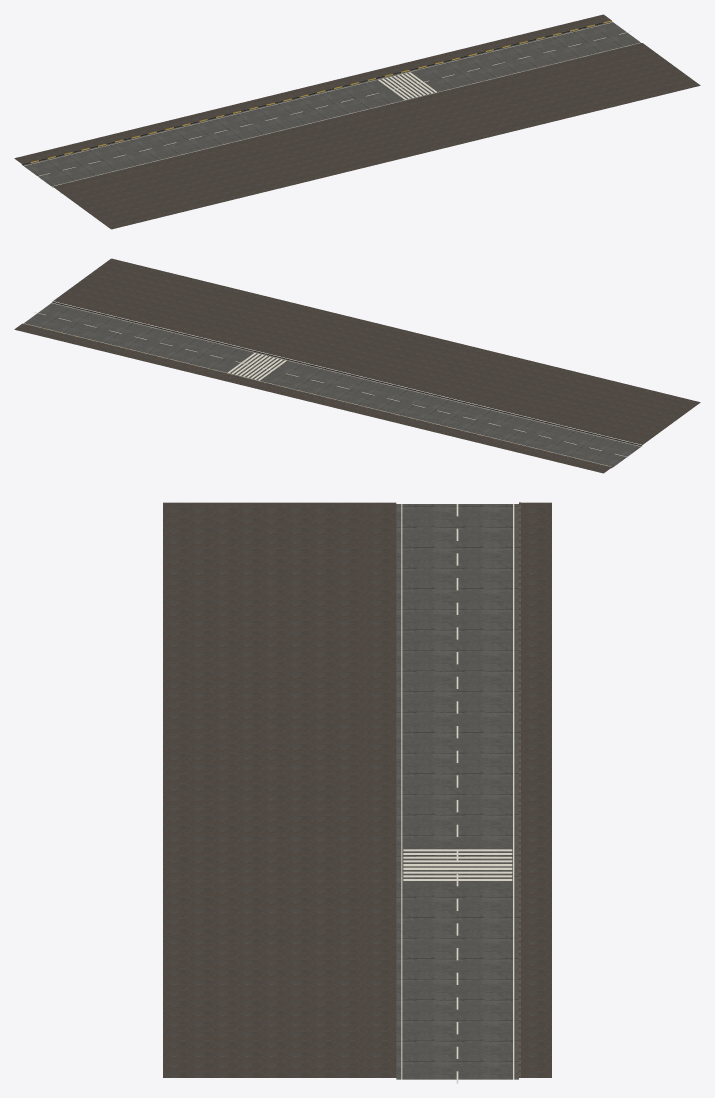
Rendered from road.glb.
3 renders of one model, top to bottom at view 1: azimuth 30°, elevation 25°; view 2: azimuth 150°, elevation 25°; view 3: azimuth 270°, elevation 25°, orthographic. The views are drawn at different scales.
Parts seen in each view (by area): view 1: road_1, road_0, road_5, road_2, road_3, road_4; view 2: road_1, road_0, road_5, road_2; view 3: road_1, road_0, road_5, road_2.
Part boxes in pixels (x1,y1,x2,y2): road_1: (14, 14, 700, 229); road_0: (22, 21, 640, 187); road_5: (24, 22, 640, 186); road_2: (22, 20, 634, 187); road_3: (22, 22, 603, 164); road_4: (30, 20, 611, 162); road_1: (14, 258, 700, 473); road_0: (24, 302, 642, 467); road_5: (23, 303, 640, 467); road_2: (22, 301, 641, 467); road_1: (163, 502, 551, 1077); road_0: (396, 504, 518, 1079); road_5: (401, 504, 514, 1083); road_2: (519, 502, 520, 1077).
Size of the model in its own units: 141 by 0.2 by 40.
Materials: 6 (6 with a texture image).
